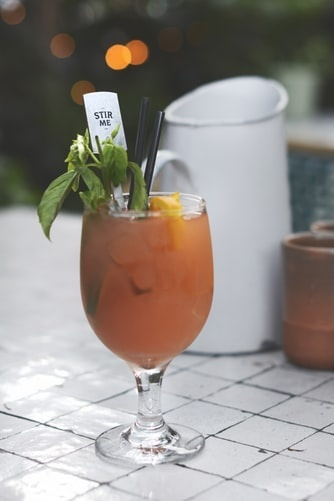whiskey: (85, 203, 209, 445)
